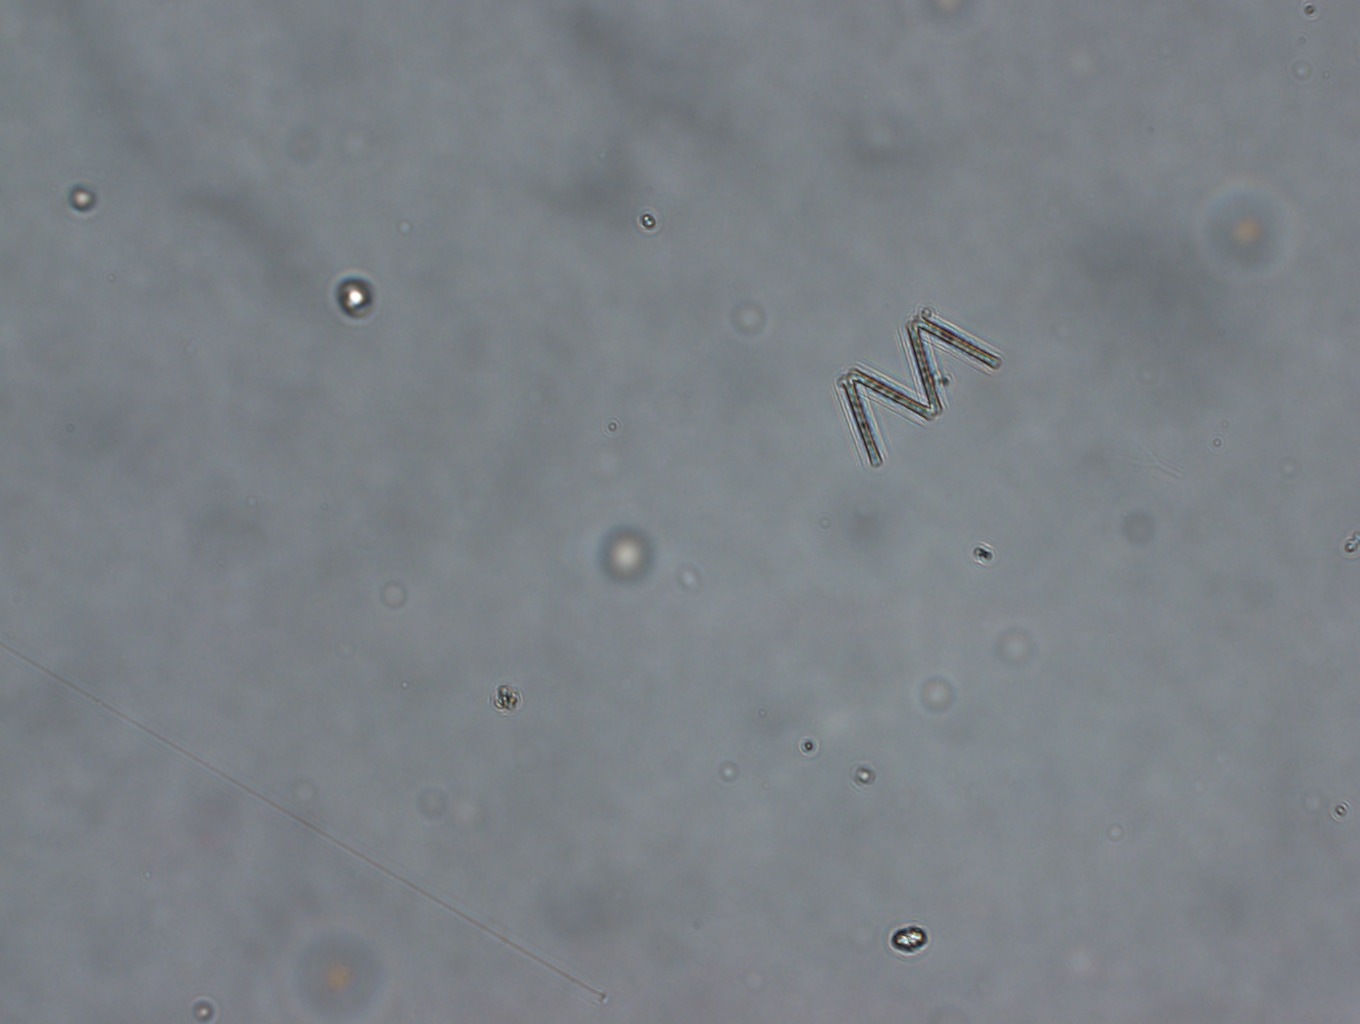thalassionema nitzschioides: (835, 307, 1002, 473)
